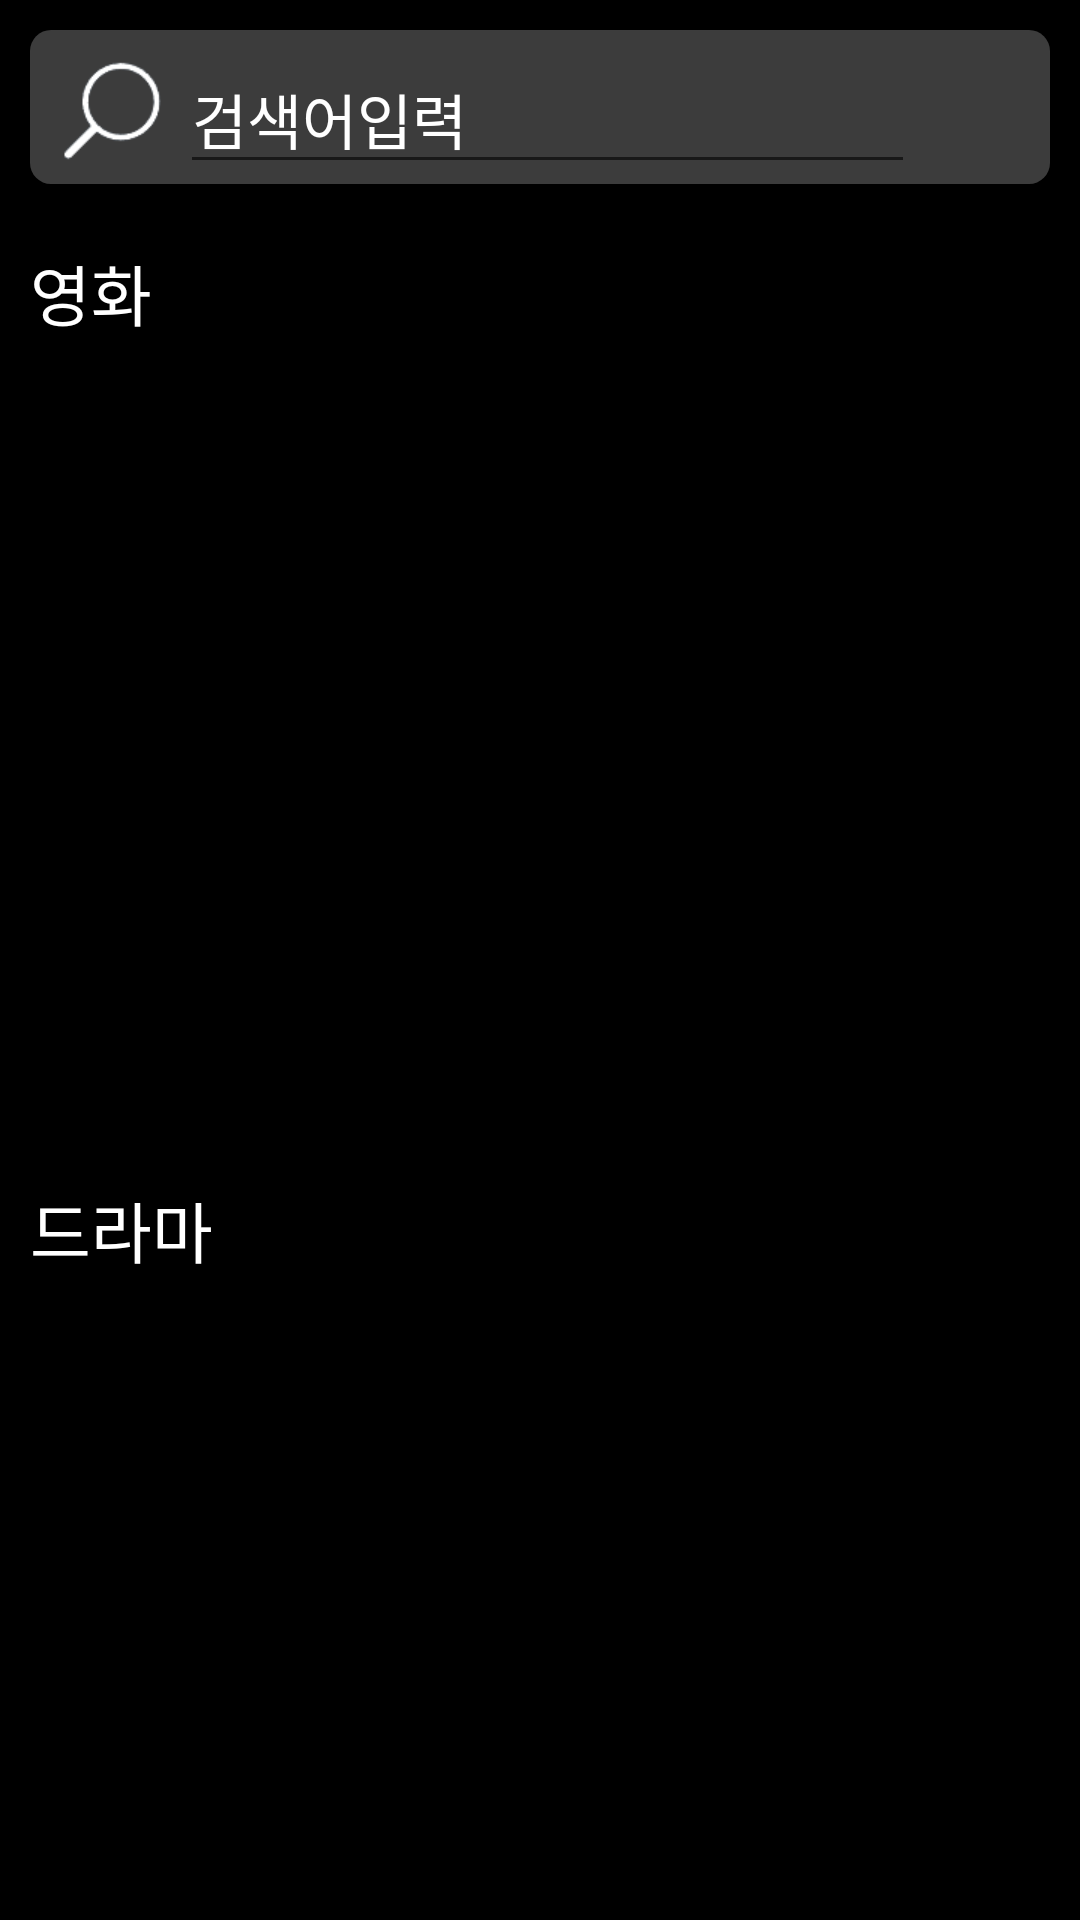

Icon click points for this 1080*1920 phone screenshot, format point (x, y):
search: point (112, 110)
